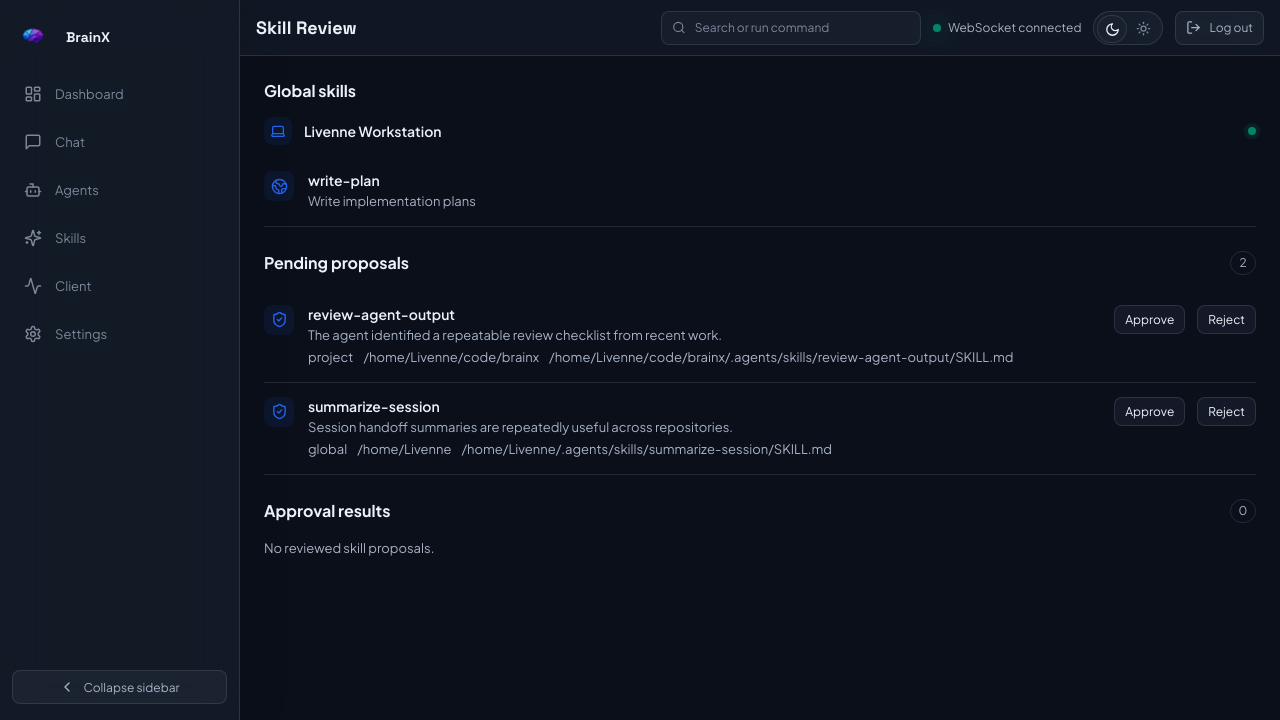
it: v0.3 feature page interactions › lets users approve or reject pending skill proposals from the review page
The width and height of the screenshot is (1280, 720).
expect the heading "Skill Review" is shown: met, box [256,18,357,36]
expect the heading "review-agent-output" is shown: met, box [308,304,455,322]
Click the 1st button "Approve" at (1150, 319), box [1114,304,1185,334]
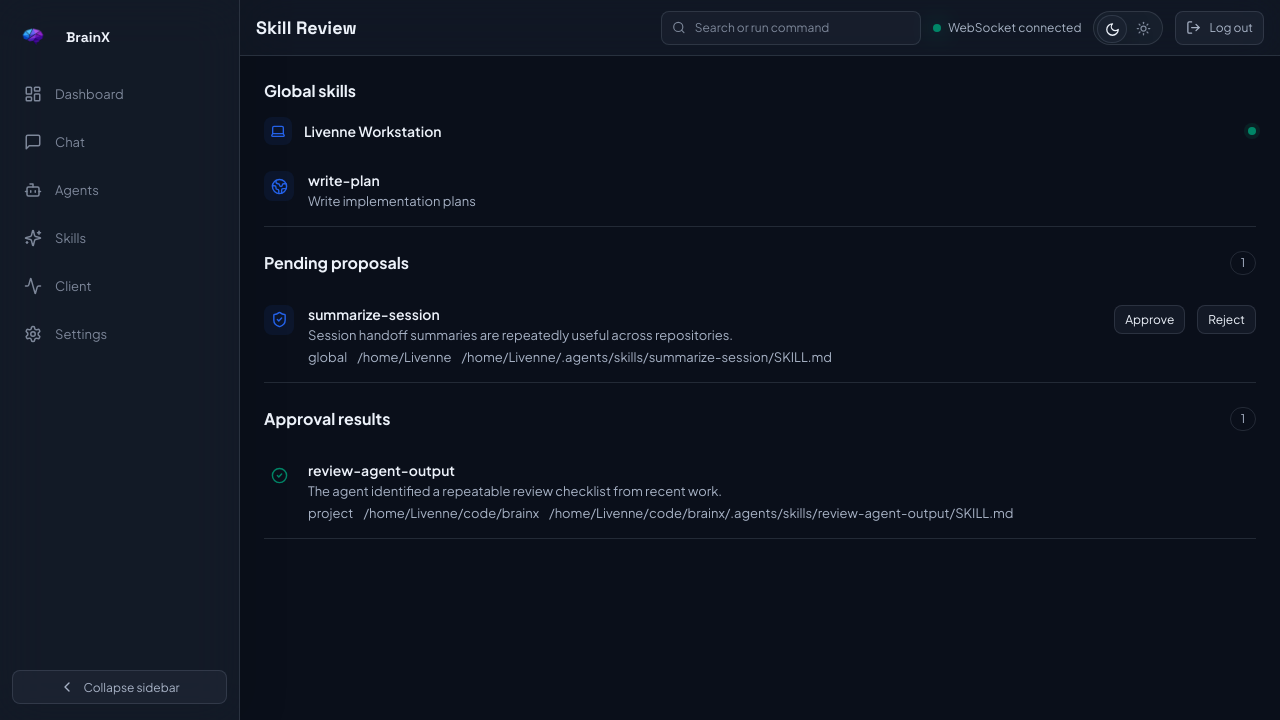
Click the button "Reject" at (1227, 319), box [1197,304,1256,334]
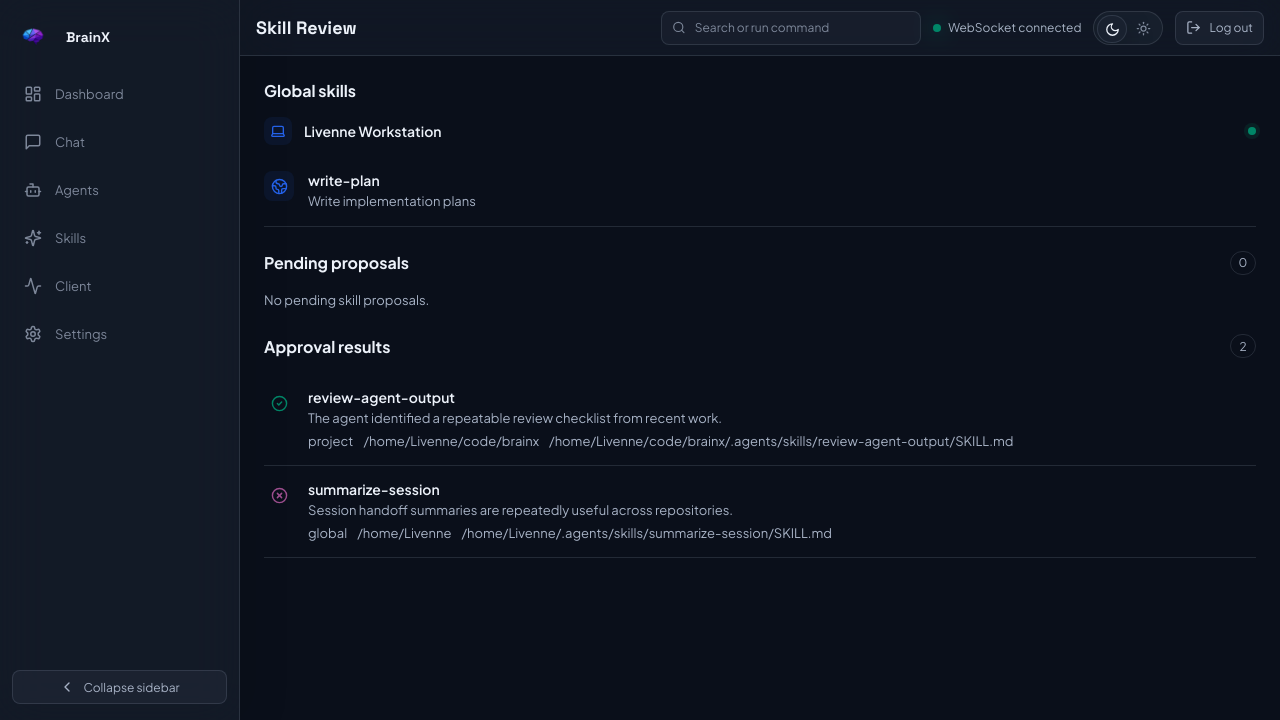
expect the element named "Skill review approved" is shown: met, box [270,394,288,412]
expect the text "No pending skill proposals." is shown: met, box [264,292,429,308]
expect the element named "Skill review rejected" is shown: met, box [270,486,288,504]
